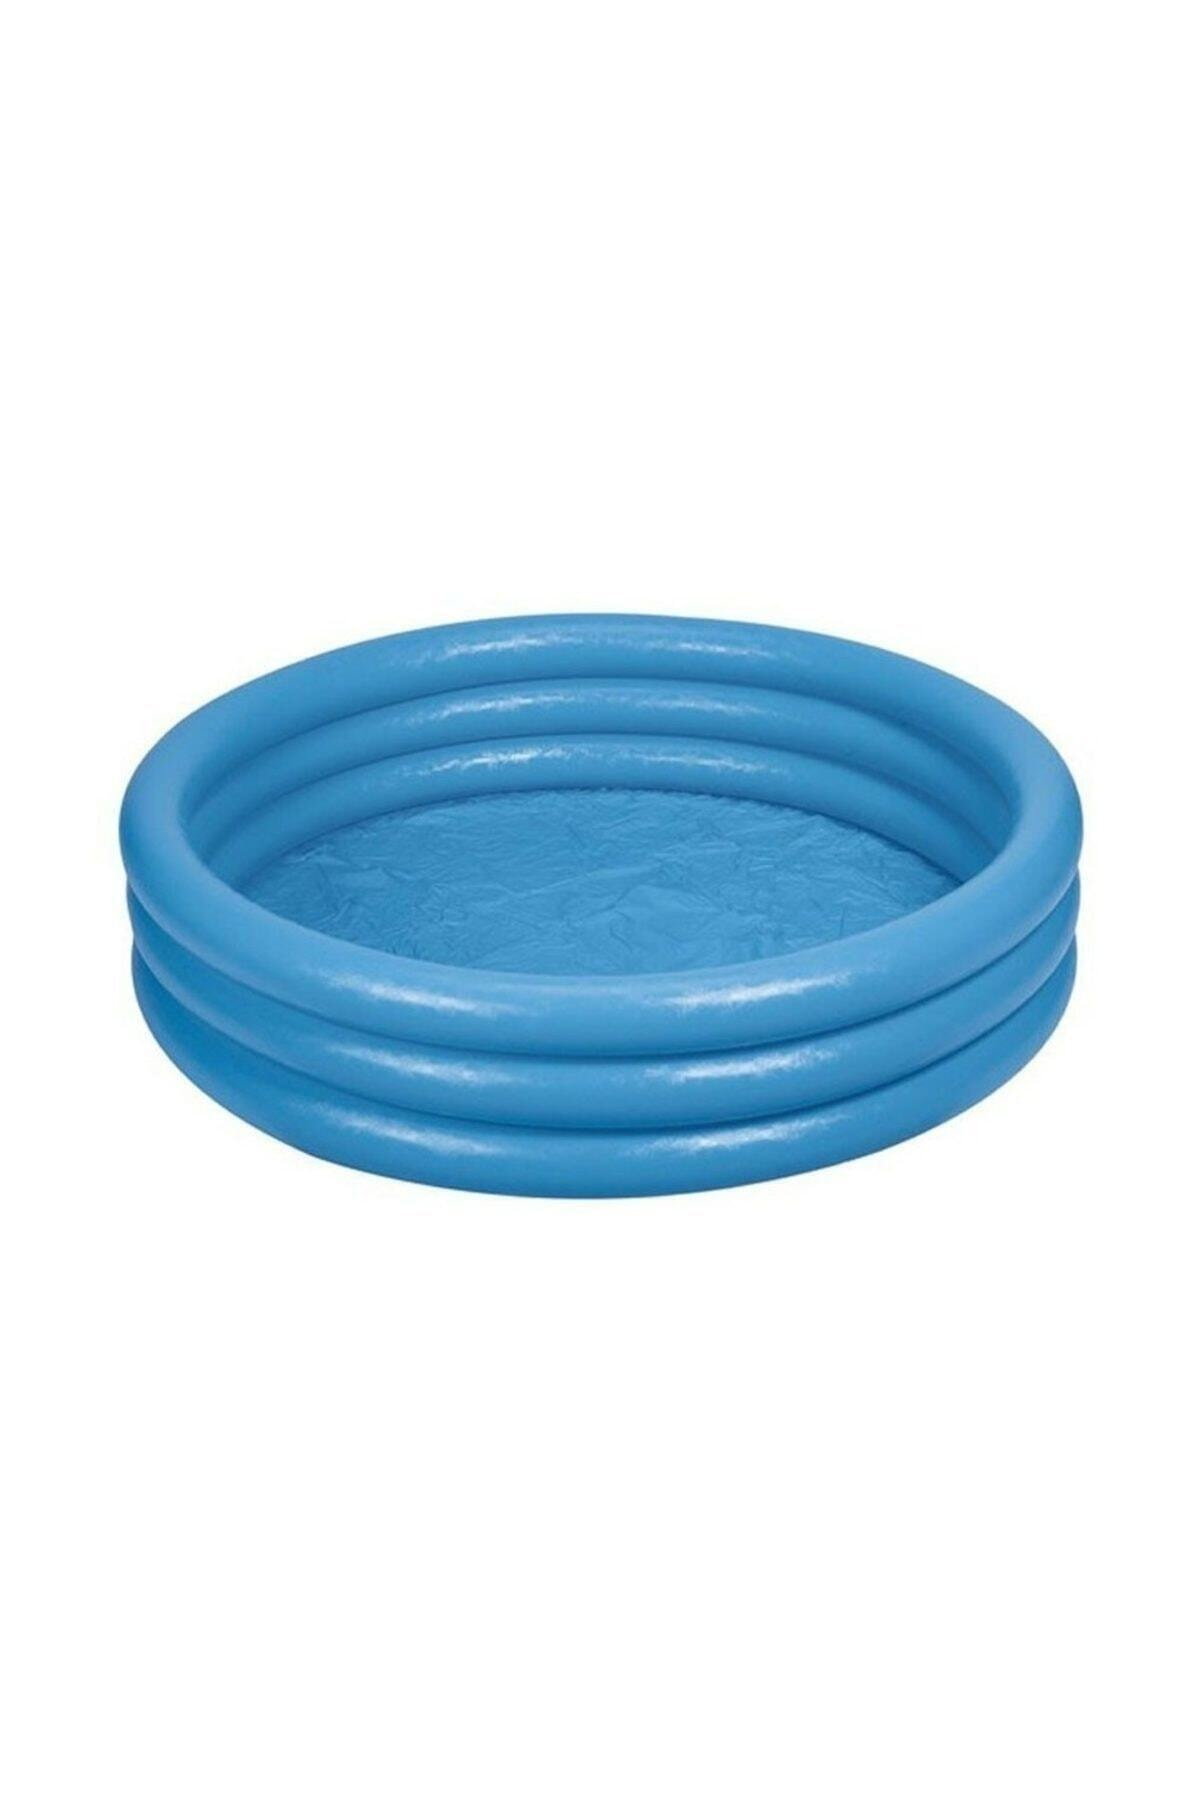havuz: (125, 615, 1092, 1203)
